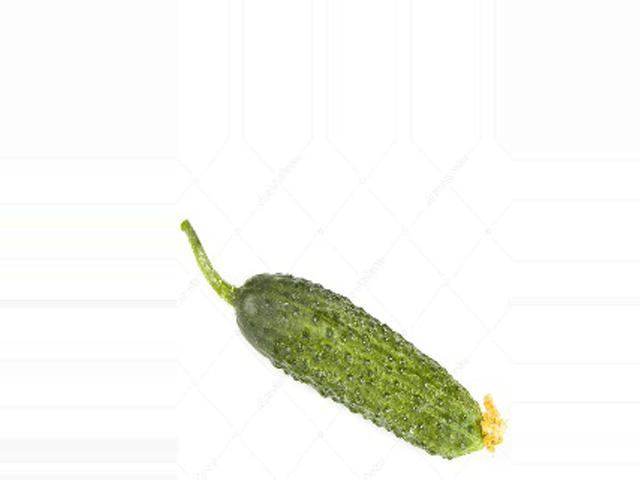cucumber: (181, 220, 508, 460)
